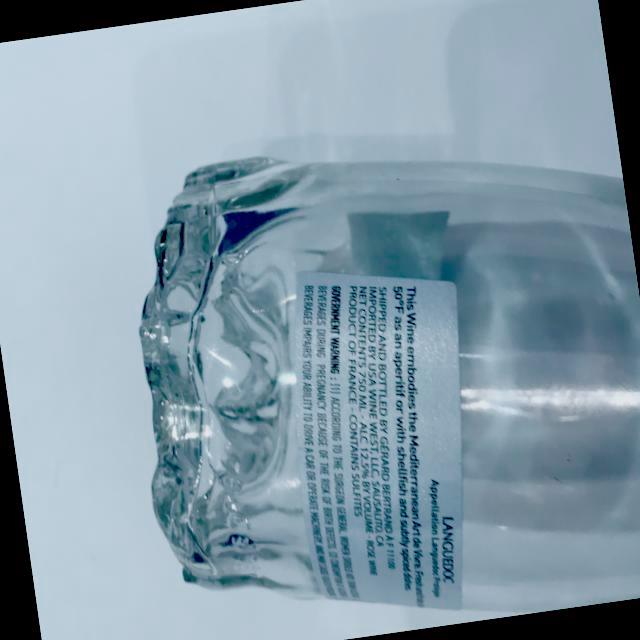glass: (98, 99, 640, 640)
